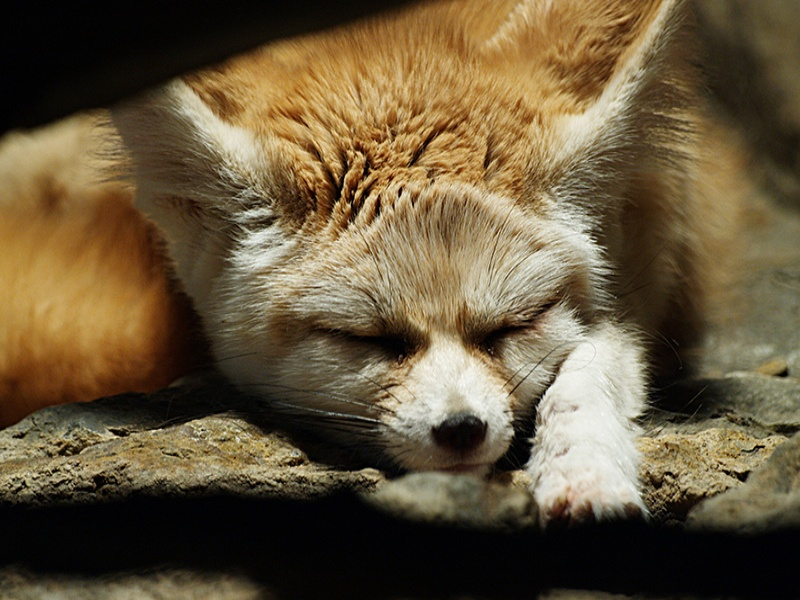fox: (34, 27, 702, 525)
